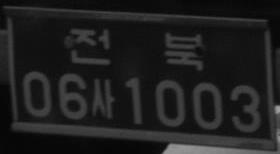0: (154, 78, 185, 127), (191, 81, 222, 130), (22, 70, 52, 118)
1: (121, 76, 146, 125)
3: (230, 83, 261, 133)
6: (57, 72, 88, 120)
사: (90, 78, 115, 120)
전북_D: (70, 27, 204, 71)
